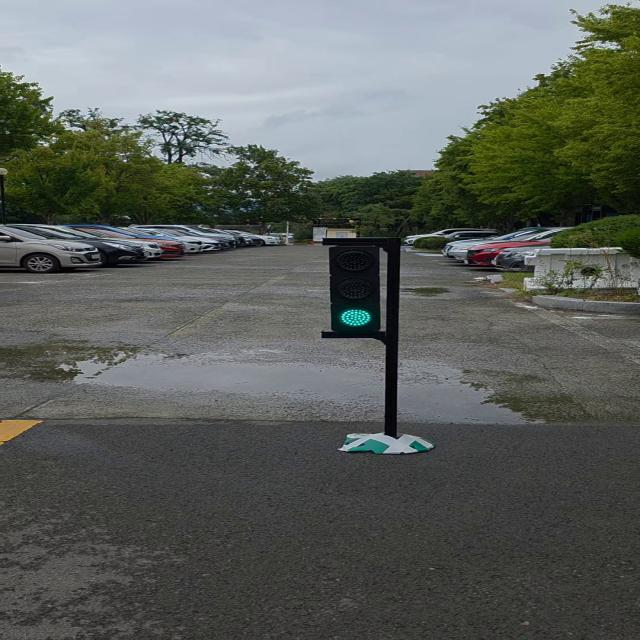green: (333, 242, 390, 338)
